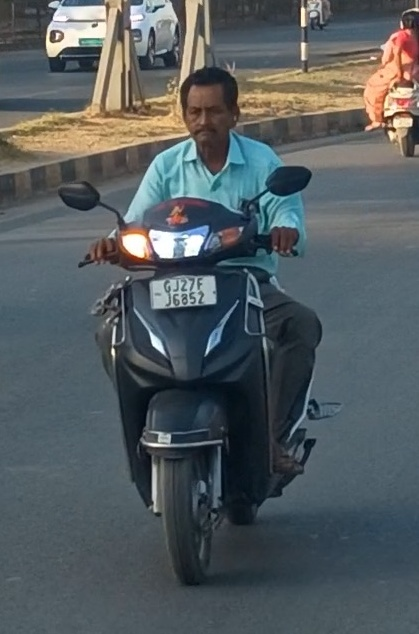BikeWithRider: (49, 60, 349, 592)
NoHelmet: (170, 61, 248, 156)
